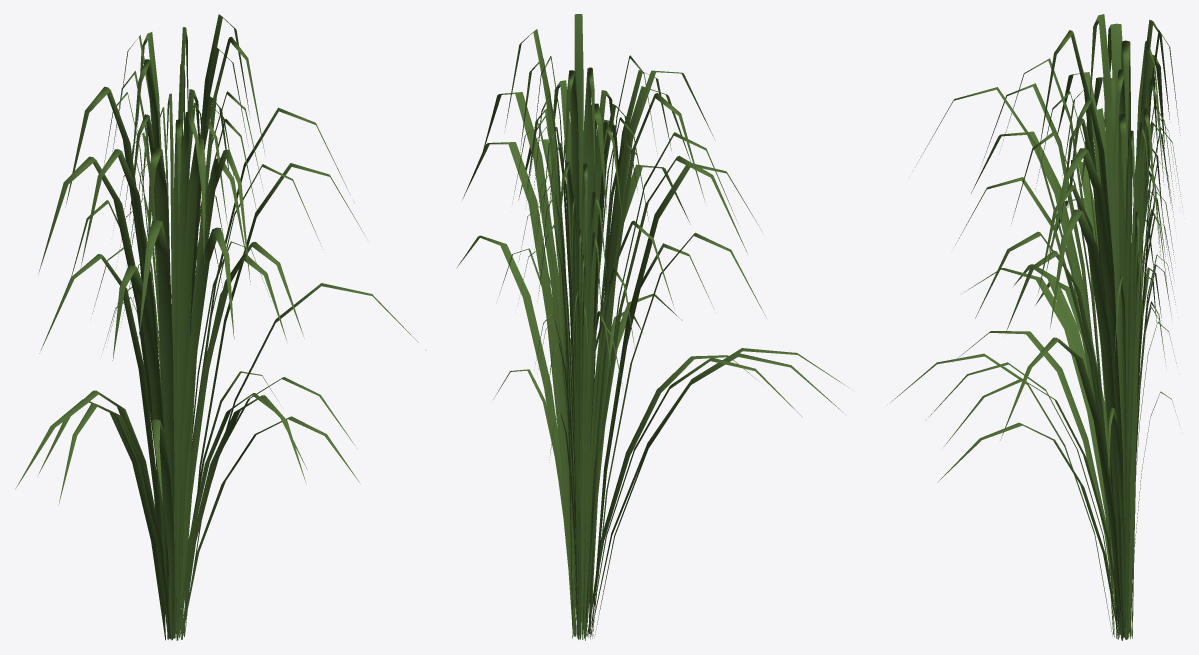
File: ornamental_grass_02.glb
The picture shows the model from 3 angles, left to right: view 1: azimuth 30°, elevation 25°; view 2: azimuth 150°, elevation 25°; view 3: azimuth 270°, elevation 25°; orthographic projection. The views are drawn at different scales.
Parts seen in each view (by area): view 1: ORNAMENTAL_GRASS_02; view 2: ORNAMENTAL_GRASS_02; view 3: ORNAMENTAL_GRASS_02.
Boxes of the visible parts, bbox=[...] form: ORNAMENTAL_GRASS_02: bbox=[15, 14, 426, 640]; ORNAMENTAL_GRASS_02: bbox=[457, 14, 848, 640]; ORNAMENTAL_GRASS_02: bbox=[889, 14, 1182, 640].
Bounding box in the file's own units: 0.7654 × 1.1 × 0.4814.
